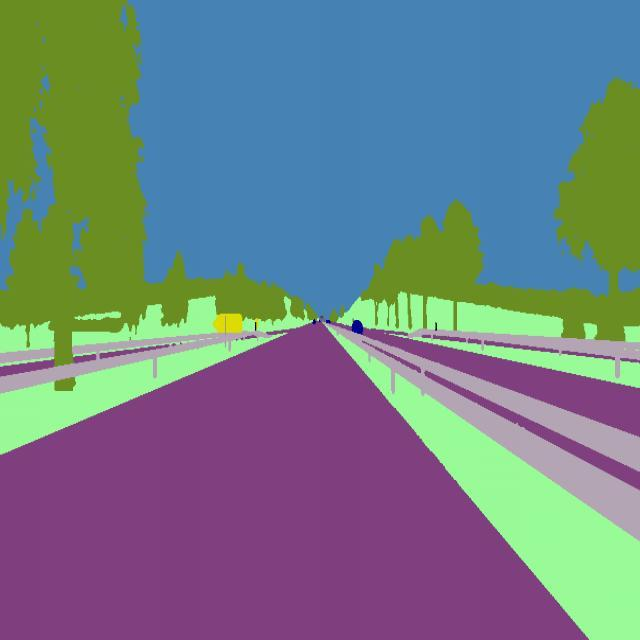safe: (347, 314, 367, 334)
